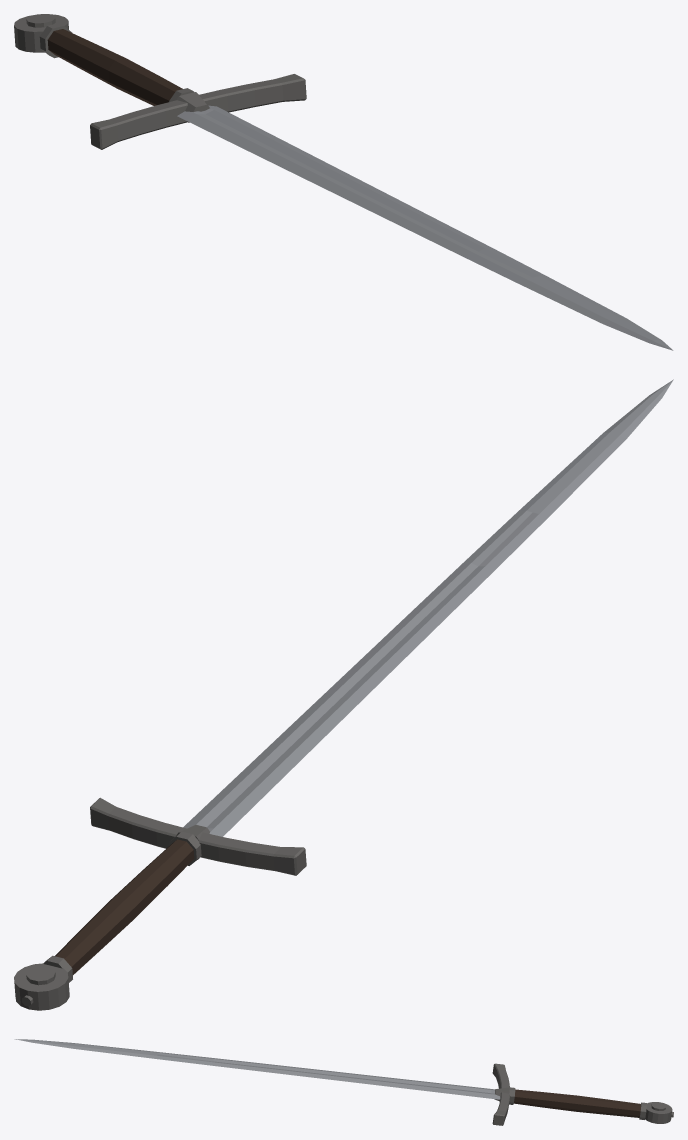
The model's file is bride-sword.glb.
3 views of the same model, one above another, from view 1: azimuth 30°, elevation 25°; view 2: azimuth 150°, elevation 25°; view 3: azimuth 270°, elevation 25° (orthographic). The views are drawn at different scales.
Parts seen in each view (by area): view 1: BrideSword; view 2: BrideSword; view 3: BrideSword.
Part boxes in pixels (x1,y1,x2,y2): BrideSword: (14, 14, 673, 350); BrideSword: (14, 379, 673, 1010); BrideSword: (14, 1039, 673, 1125).
Size of the model in its own units: 0.26 by 0.1934 by 1.41.
